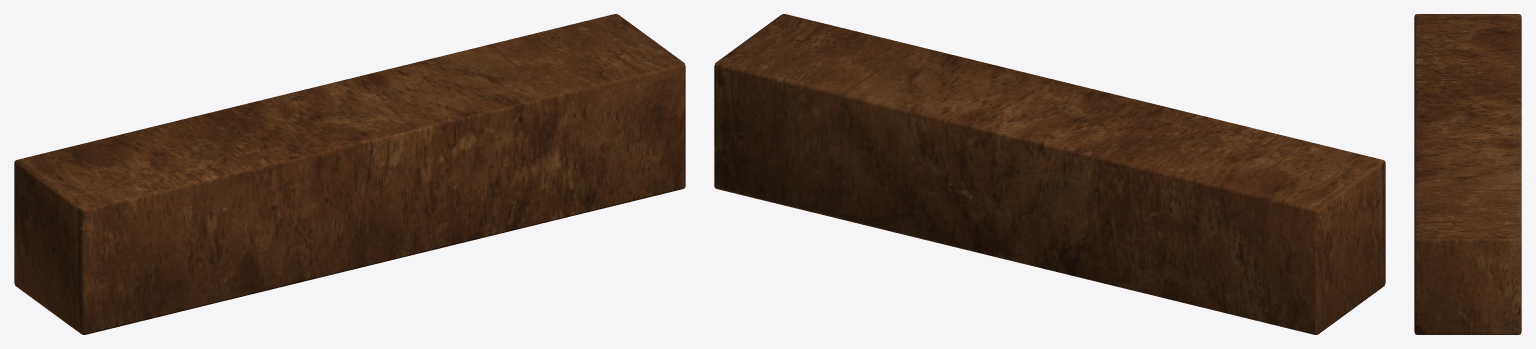
The model's file is luban_f.glb.
3 renders of one model, left to right at view 1: azimuth 30°, elevation 25°; view 2: azimuth 150°, elevation 25°; view 3: azimuth 270°, elevation 25°, orthographic. The views are drawn at different scales.
Parts seen in each view (by area): view 1: luban_f; view 2: luban_f; view 3: luban_f.
Boxes of the visible parts, x1,y1,x2,y2 form: luban_f: (14, 14, 685, 334); luban_f: (714, 14, 1385, 334); luban_f: (1414, 14, 1521, 334).
Bounding box in the file's own units: 10 × 2 × 2.
1 material, 1 textured.
